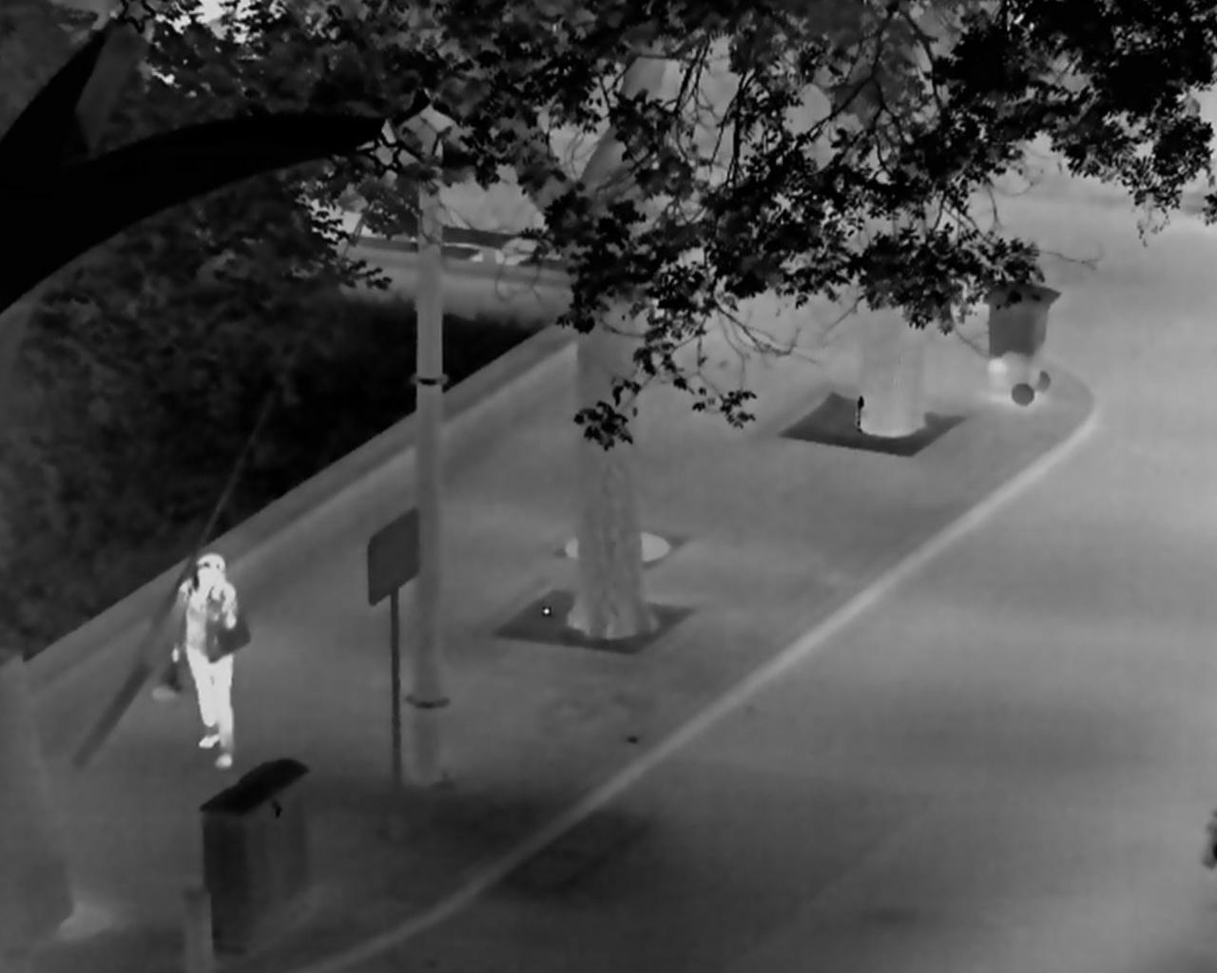person: (170, 552, 238, 771)
